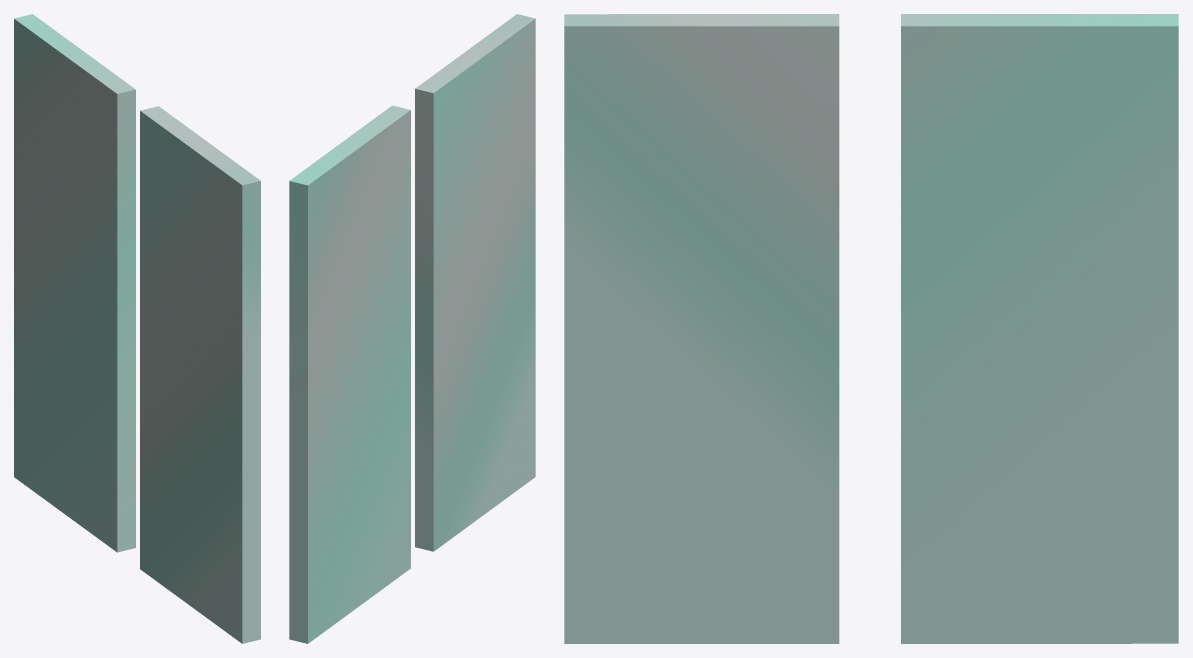
Rendered from SM_106_Door_12_2_3.fbx.
The picture shows the model from 3 angles, left to right: view 1: azimuth 30°, elevation 25°; view 2: azimuth 150°, elevation 25°; view 3: azimuth 270°, elevation 25°; orthographic projection. The views are drawn at different scales.
Visible parts, largest first — view 1: SM_106_Door_12_2_3; view 2: SM_106_Door_12_2_3; view 3: SM_106_Door_12_2_3.
Part boxes in pixels (x1=…): SM_106_Door_12_2_3: x1=14, y1=14, x2=260, y2=643; SM_106_Door_12_2_3: x1=289, y1=14, x2=535, y2=643; SM_106_Door_12_2_3: x1=564, y1=14, x2=1178, y2=643.
Size of the model in its own units: 10.44 by 218 by 242.
1 material, 1 textured.
